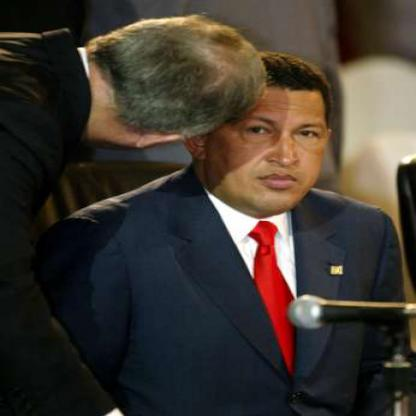face: (202, 56, 334, 218)
